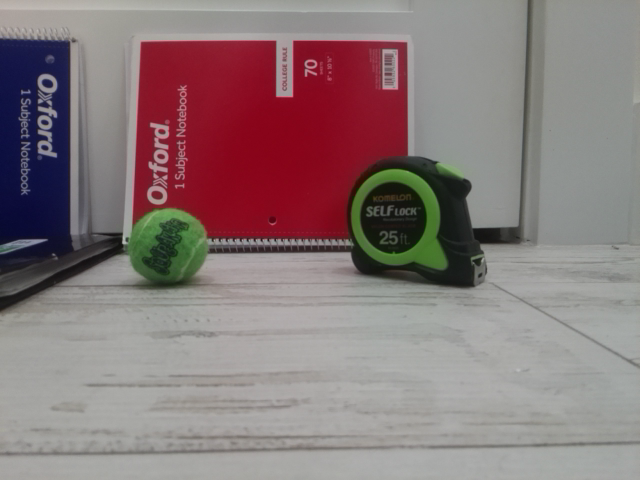green-ball: (127, 206, 209, 286)
